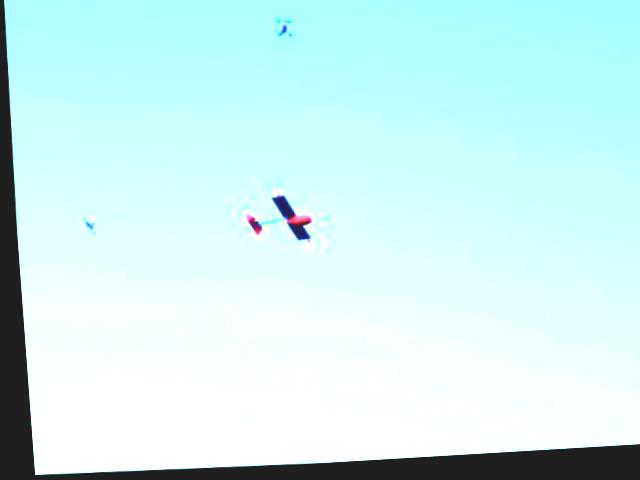uav: (228, 175, 328, 261)
